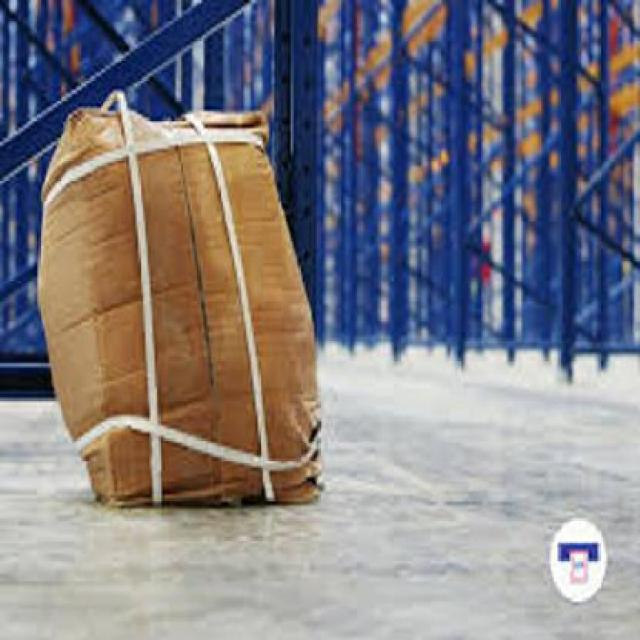defect: (32, 86, 336, 522)
